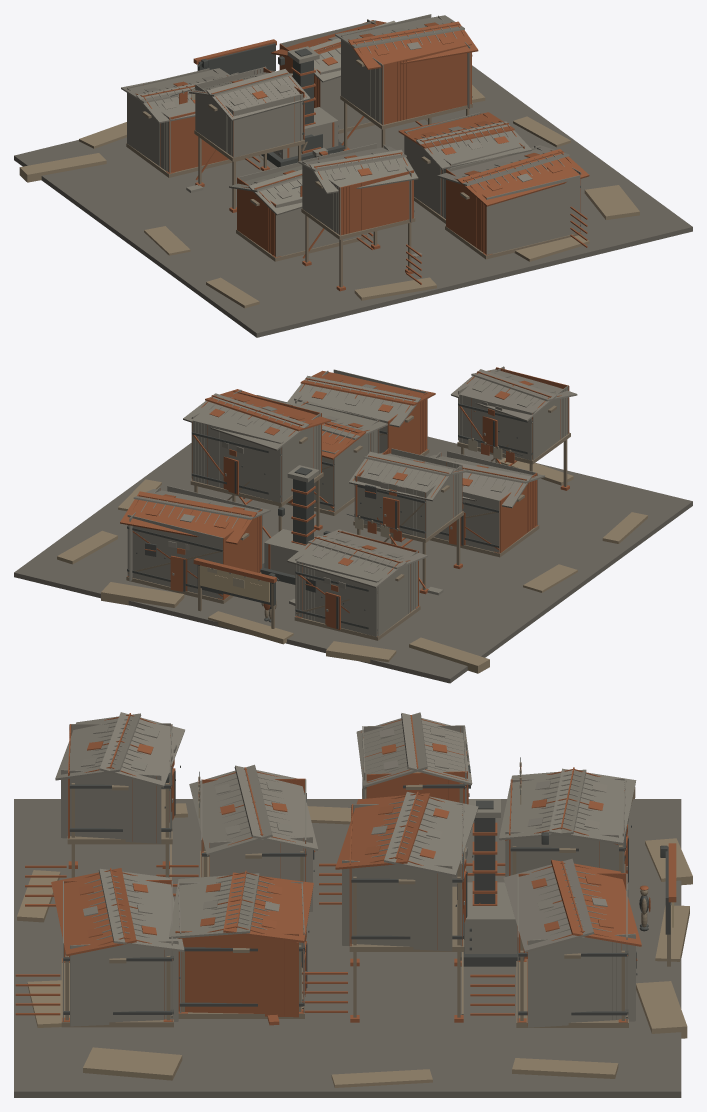
The model's file is tintown.glb.
3 views of the same model, one above another, from view 1: azimuth 30°, elevation 25°; view 2: azimuth 150°, elevation 25°; view 3: azimuth 270°, elevation 25° (orthographic). The views are drawn at different scales.
Parts seen in each view (by area): view 1: tintown-surface-ash-and-crushed-slag, tintown-surface-pitted-galvanized-and-rusted-steel, tintown-surface-oxide-scale, tintown-surface-windblown-drift-sand, tintown-surface-salvaged-grey-timber, tintown-surface-soot-black-iron; view 2: tintown-surface-pitted-galvanized-and-rusted-steel, tintown-surface-ash-and-crushed-slag, tintown-surface-oxide-scale, tintown-surface-windblown-drift-sand, tintown-surface-salvaged-grey-timber, tintown-surface-soot-black-iron, tintown-surface-notice-board-paper, tintown-surface-patched-washing-cloth; view 3: tintown-surface-pitted-galvanized-and-rusted-steel, tintown-surface-ash-and-crushed-slag, tintown-surface-oxide-scale, tintown-surface-windblown-drift-sand, tintown-surface-salvaged-grey-timber, tintown-surface-soot-black-iron.
Boxes of the visible parts, bbox=[...] form: tintown-surface-ash-and-crushed-slag: bbox=[14, 65, 692, 337]; tintown-surface-pitted-galvanized-and-rusted-steel: bbox=[121, 14, 581, 258]; tintown-surface-oxide-scale: bbox=[135, 20, 589, 291]; tintown-surface-windblown-drift-sand: bbox=[19, 85, 639, 308]; tintown-surface-salvaged-grey-timber: bbox=[126, 59, 581, 287]; tintown-surface-soot-black-iron: bbox=[170, 43, 580, 226]; tintown-surface-pitted-galvanized-and-rusted-steel: bbox=[127, 366, 577, 636]; tintown-surface-ash-and-crushed-slag: bbox=[14, 395, 692, 683]; tintown-surface-oxide-scale: bbox=[120, 367, 569, 636]; tintown-surface-windblown-drift-sand: bbox=[57, 458, 647, 673]; tintown-surface-salvaged-grey-timber: bbox=[126, 405, 570, 640]; tintown-surface-soot-black-iron: bbox=[127, 403, 532, 630]; tintown-surface-notice-board-paper: bbox=[200, 565, 269, 602]; tintown-surface-patched-washing-cloth: bbox=[207, 439, 502, 588]; tintown-surface-pitted-galvanized-and-rusted-steel: bbox=[55, 712, 636, 1027]; tintown-surface-ash-and-crushed-slag: bbox=[14, 799, 681, 1097]; tintown-surface-oxide-scale: bbox=[15, 713, 676, 1025]; tintown-surface-windblown-drift-sand: bbox=[17, 787, 692, 1087]; tintown-surface-salvaged-grey-timber: bbox=[61, 762, 670, 1027]; tintown-surface-soot-black-iron: bbox=[63, 757, 670, 1015].
Size of what is drawn, in the model's own units: 28.85 by 7.92 by 27.47.
